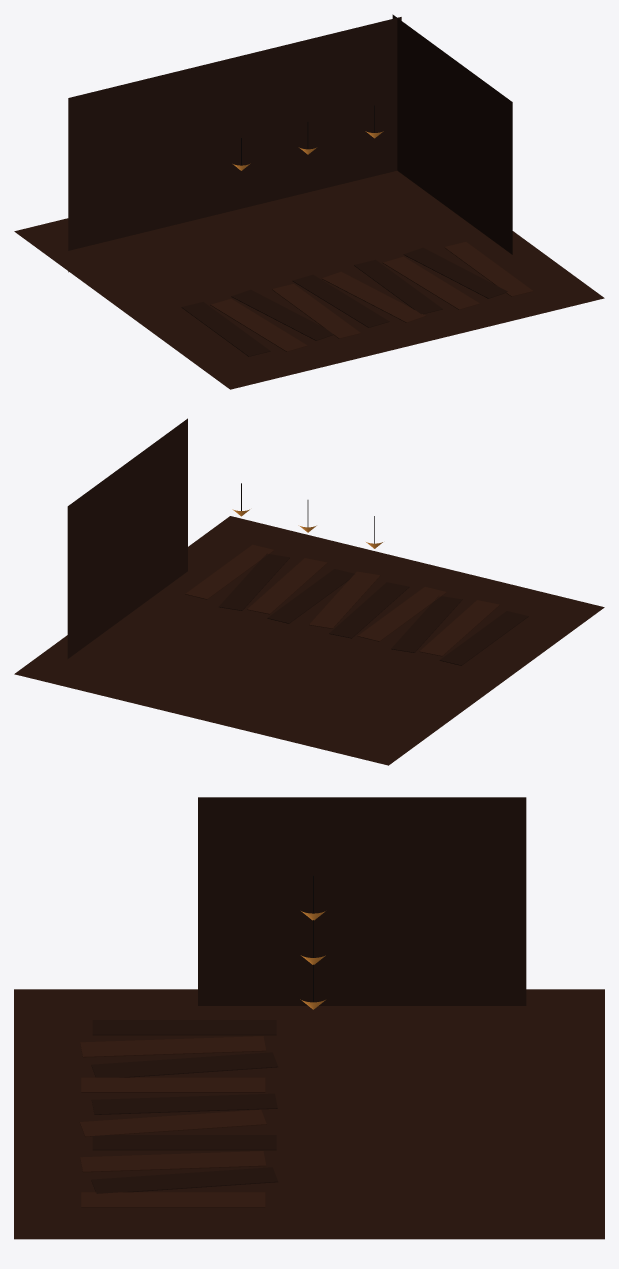
File: bar-room.glb
The picture shows the model from 3 angles, top to bottom: view 1: azimuth 30°, elevation 25°; view 2: azimuth 150°, elevation 25°; view 3: azimuth 270°, elevation 25°; orthographic projection. The views are drawn at different scales.
Parts seen in each view (by area): view 1: Floor, BackWall, RightWall, FloorBoard_8, FloorBoard_5, FloorBoard_4, FloorBoard_1, FloorBoard_7, FloorBoard_2, FloorBoard_0, FloorBoard_3, FloorBoard_6 (+1 smaller); view 2: Floor, RightWall, FloorBoard_0, FloorBoard_1, FloorBoard_9, FloorBoard_3, FloorBoard_6, FloorBoard_7, FloorBoard_4, FloorBoard_8, FloorBoard_2, FloorBoard_5; view 3: Floor, LeftWall, FloorBoard_0, FloorBoard_3, FloorBoard_6, FloorBoard_1, FloorBoard_4, FloorBoard_7, FloorBoard_9, FloorBoard_8, FloorBoard_5, FloorBoard_2.
Boxes of the visible parts, <box> form: Floor: <box>14,170,604,389</box>; BackWall: <box>68,17,401,272</box>; RightWall: <box>392,14,512,254</box>; FloorBoard_8: <box>403,247,507,298</box>; FloorBoard_5: <box>321,271,425,322</box>; FloorBoard_4: <box>292,274,389,327</box>; FloorBoard_1: <box>210,299,307,351</box>; FloorBoard_7: <box>383,256,479,309</box>; FloorBoard_2: <box>231,289,333,340</box>; FloorBoard_0: <box>181,302,270,356</box>; FloorBoard_3: <box>272,284,360,338</box>; FloorBoard_6: <box>354,259,442,314</box>; Floor: <box>14,516,604,765</box>; RightWall: <box>67,418,187,658</box>; FloorBoard_0: <box>439,611,528,665</box>; FloorBoard_1: <box>419,600,499,656</box>; FloorBoard_9: <box>185,544,274,599</box>; FloorBoard_3: <box>357,587,446,641</box>; FloorBoard_6: <box>267,569,354,623</box>; FloorBoard_7: <box>247,558,327,614</box>; FloorBoard_4: <box>329,582,409,638</box>; FloorBoard_8: <box>219,553,289,610</box>; FloorBoard_2: <box>391,596,462,652</box>; FloorBoard_5: <box>309,571,380,628</box>; Floor: <box>14,989,604,1239</box>; LeftWall: <box>198,797,526,1005</box>; FloorBoard_0: <box>92,1020,276,1035</box>; FloorBoard_3: <box>81,1077,265,1092</box>; FloorBoard_6: <box>92,1135,276,1150</box>; FloorBoard_1: <box>80,1036,266,1057</box>; FloorBoard_4: <box>91,1093,277,1114</box>; FloorBoard_7: <box>80,1151,266,1172</box>; FloorBoard_9: <box>81,1192,265,1207</box>; FloorBoard_8: <box>91,1167,278,1193</box>; FloorBoard_5: <box>79,1109,266,1137</box>; FloorBoard_2: <box>91,1052,278,1077</box>.
Size of the model in its own units: 18 by 8 by 18.
